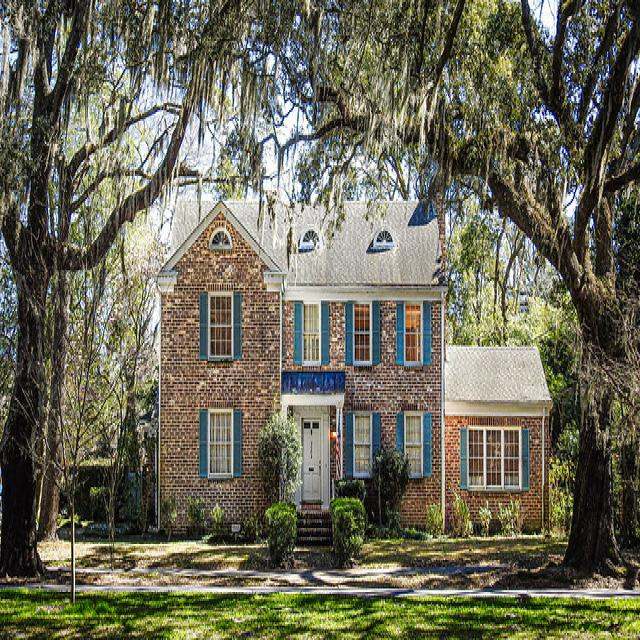building: (150, 187, 556, 560)
